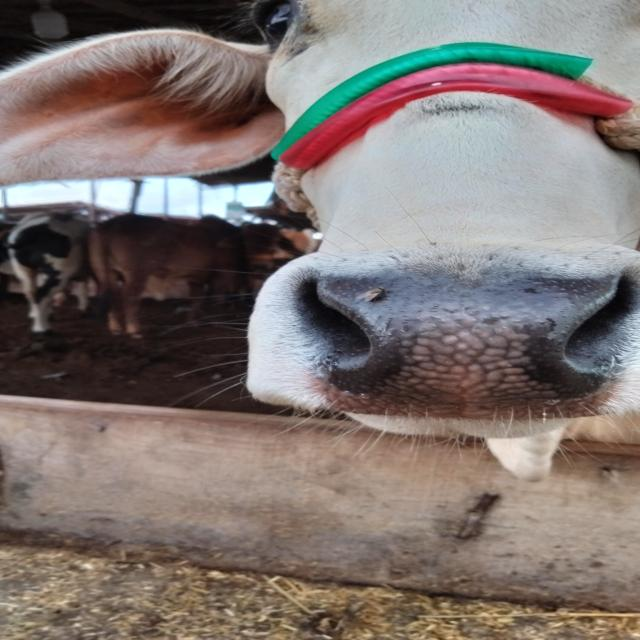muzzles: (280, 253, 636, 427)
